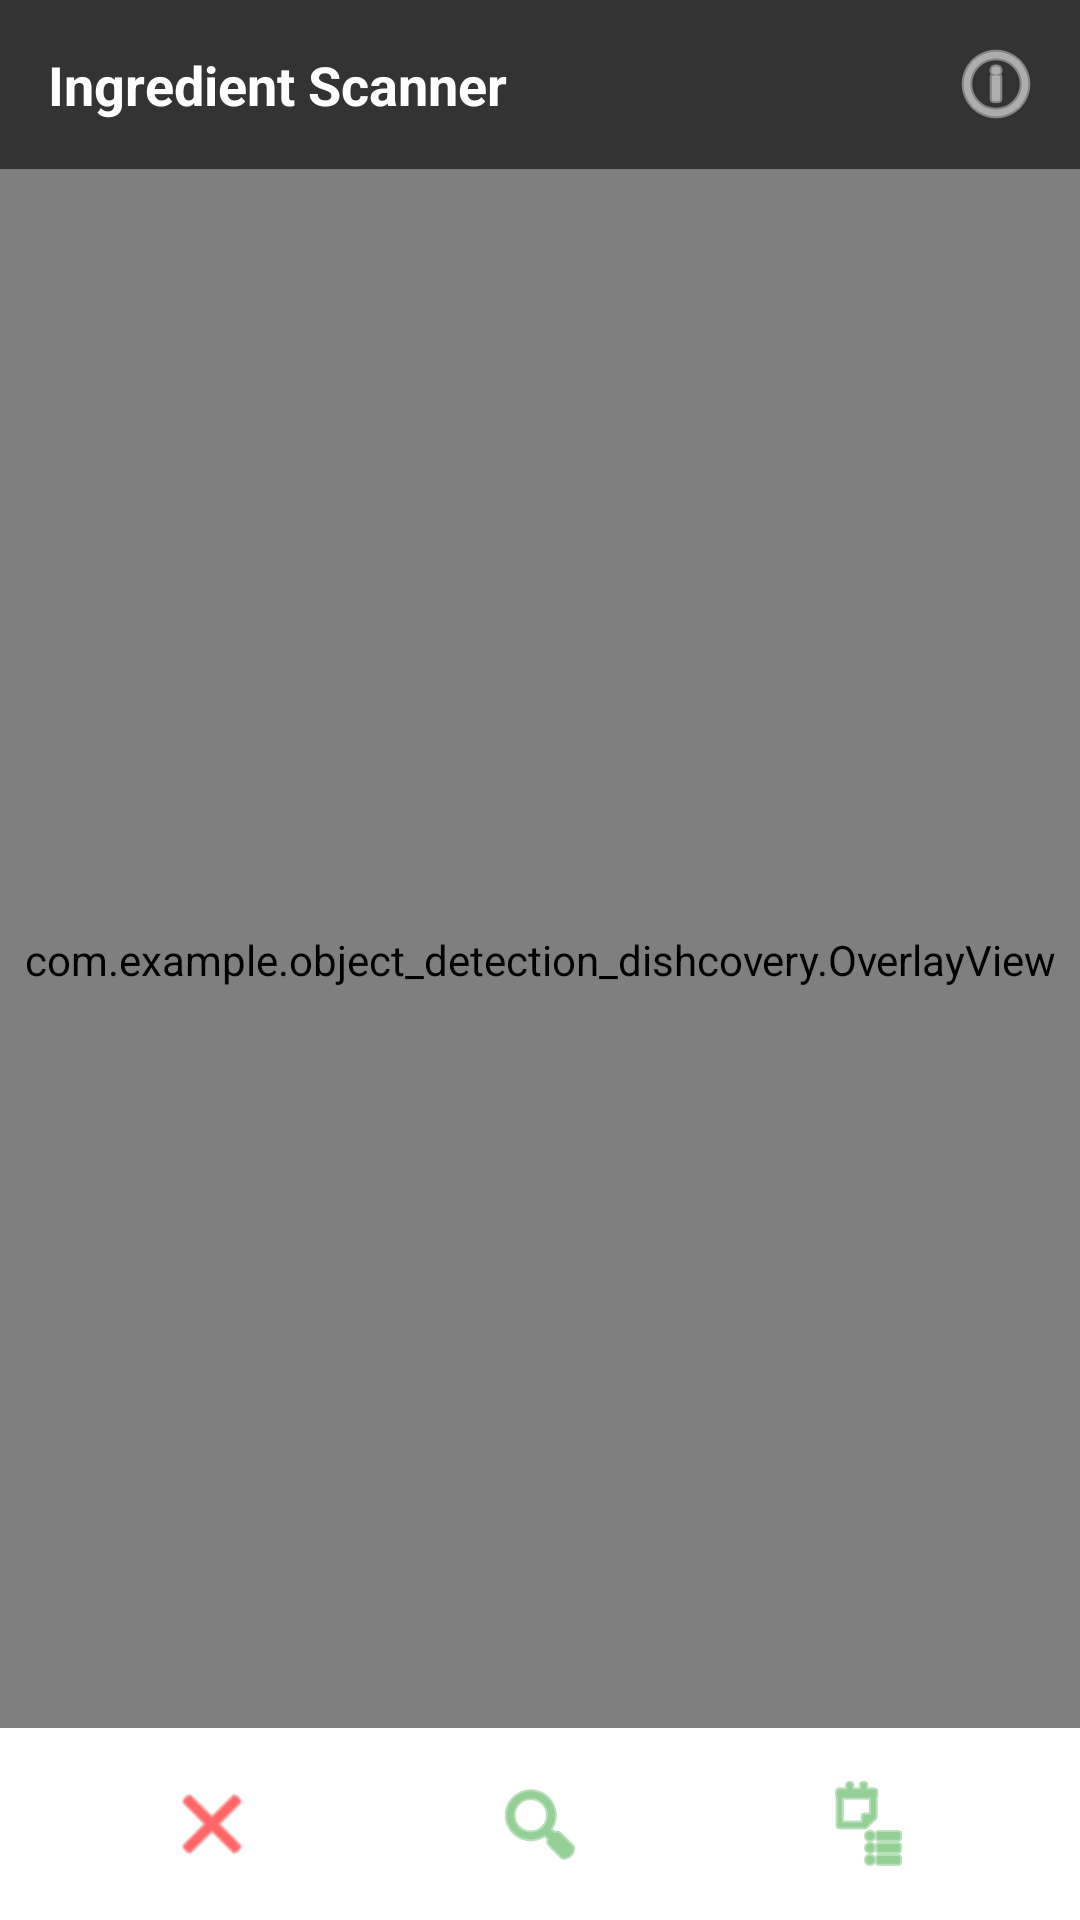

Icon bounding boxes for this 1080x1920 phone screenshot, format (x1, y1, x2, y2):
agenda: (835, 1781, 902, 1866)
close clear cancel: (182, 1794, 242, 1854)
info details: (961, 50, 1031, 119)
search: (505, 1789, 575, 1860)
